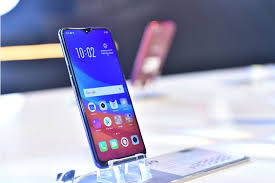oppo: (54, 28, 149, 168)
